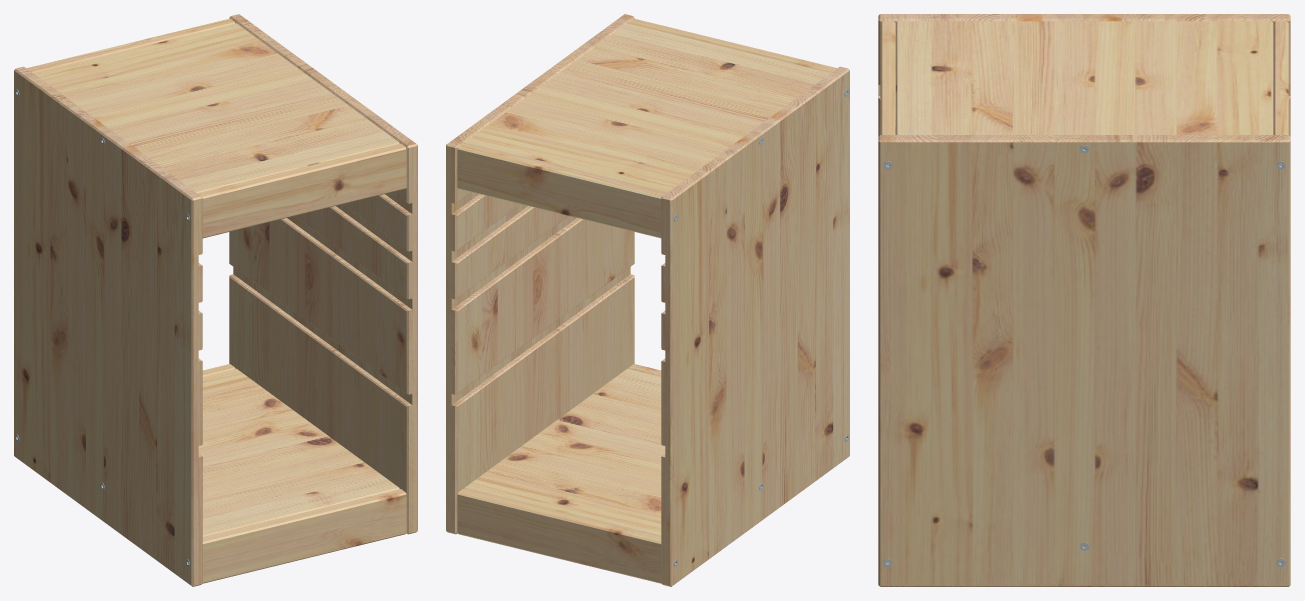
Rendered from trofast_rama_90516061.glb.
3 views of the same model, side by side, from view 1: azimuth 30°, elevation 25°; view 2: azimuth 150°, elevation 25°; view 3: azimuth 270°, elevation 25° (orthographic). The views are drawn at different scales.
Visible parts, largest first — view 1: trofast_rama_90516061; view 2: trofast_rama_90516061; view 3: trofast_rama_90516061.
Boxes of the visible parts, x1,y1,x2,y2 form: trofast_rama_90516061: (14, 14, 417, 586); trofast_rama_90516061: (446, 14, 849, 586); trofast_rama_90516061: (878, 14, 1290, 586).
Size of the model in its own units: 0.319 by 0.521 by 0.435.
Materials: 1 (1 with a texture image).
